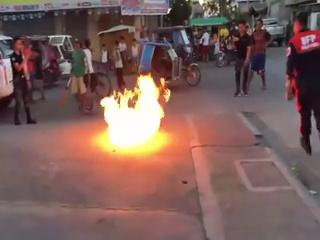Fire: (99, 73, 171, 148)
